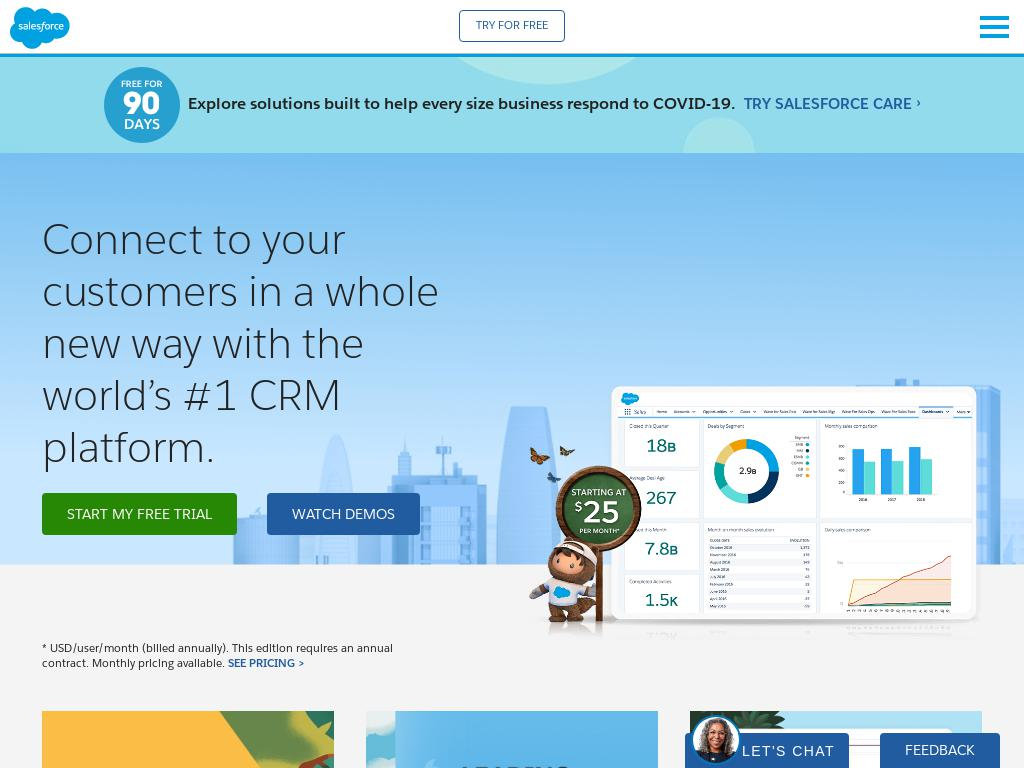button: (42, 493, 237, 535), (267, 493, 420, 535), (685, 733, 849, 768), (880, 733, 1000, 768), (0, 0, 70, 56), (459, 10, 565, 42), (970, 0, 1024, 54)
heading: (42, 212, 439, 474)
image: (0, 153, 1024, 642), (528, 383, 982, 642), (0, 57, 1024, 153), (365, 711, 658, 768), (689, 711, 982, 768), (42, 711, 334, 768), (103, 67, 180, 143), (10, 7, 70, 49), (691, 733, 737, 768), (980, 16, 1009, 20), (980, 25, 1009, 29), (980, 34, 1009, 38)
text: (42, 641, 393, 672), (187, 92, 653, 114), (743, 93, 921, 113), (67, 505, 212, 523), (292, 505, 395, 523), (652, 92, 736, 114), (742, 743, 835, 760), (228, 656, 305, 672), (476, 18, 548, 33)
